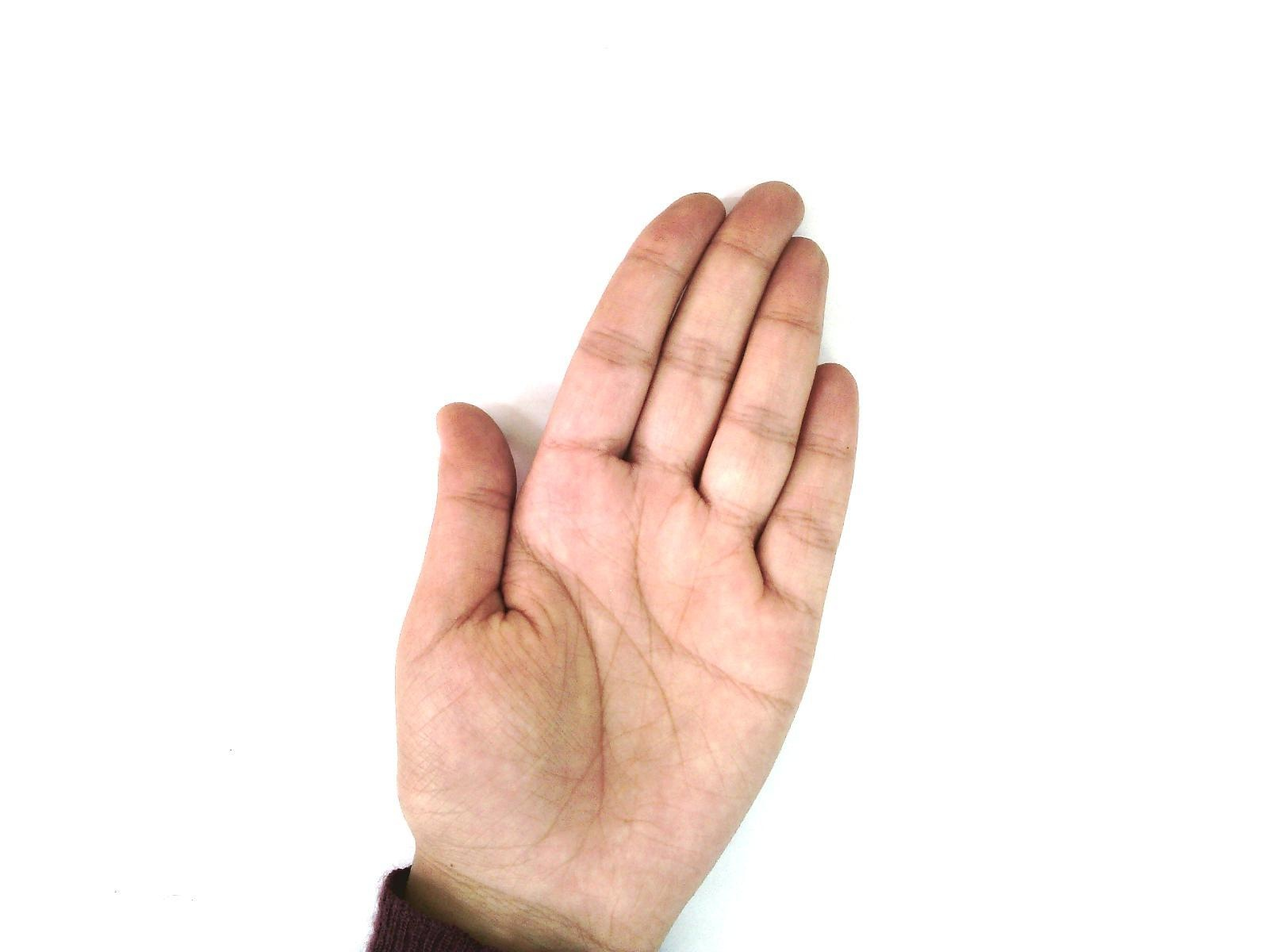open_palm: (389, 179, 863, 951)
